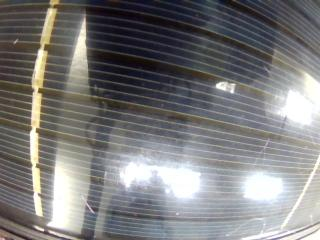crack: (254, 138, 270, 164), (82, 195, 94, 213), (264, 66, 271, 76), (310, 214, 314, 224), (13, 38, 18, 44)
scratch: (226, 218, 264, 236)
